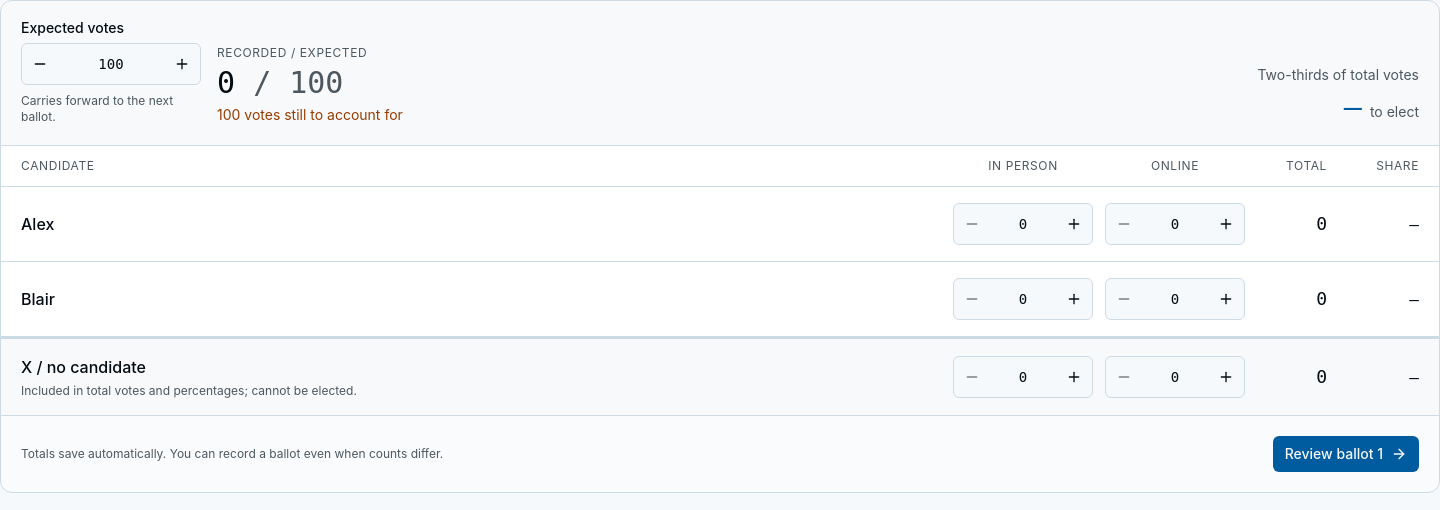
Test: election entry controls › includes X in displayed percentages and keeps recording available when counts differ
expect the button "Review ballot 1" is enabled: met, box x1=1273 y1=436 x2=1419 y2=472
Replace the text in the number field named "In person votes for Alex" with "70" at (1023,224), box x1=990 y1=204 x2=1056 y2=244
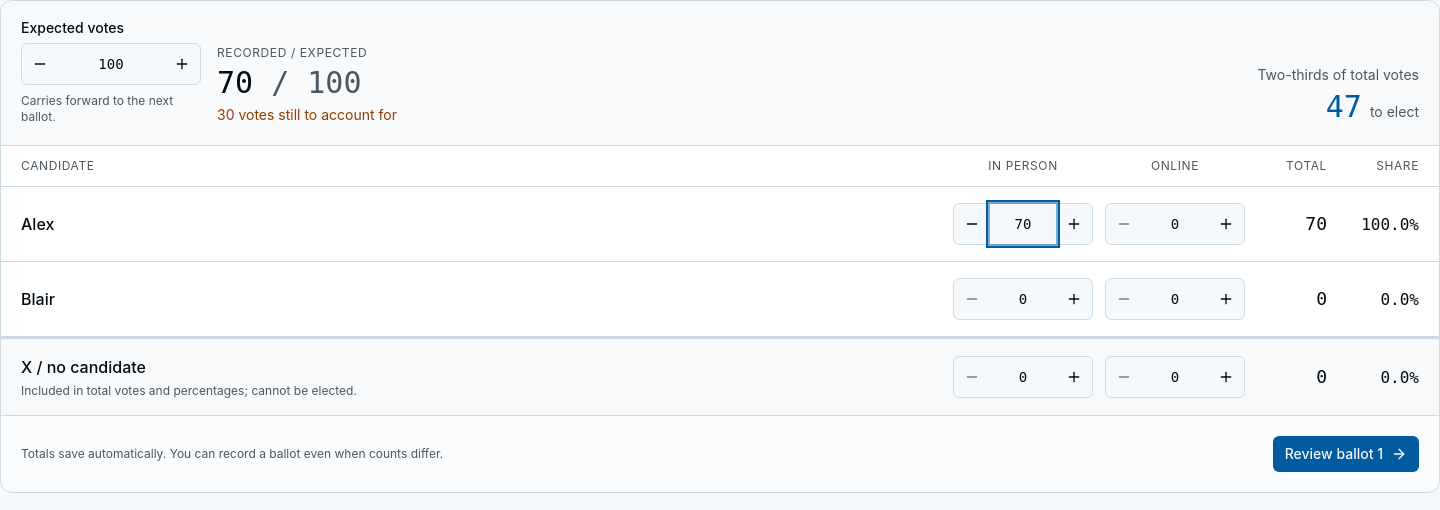
Replace the text in the number field named "Online votes for Blair" with "20" at (1175,299), box x1=1142 y1=279 x2=1208 y2=319
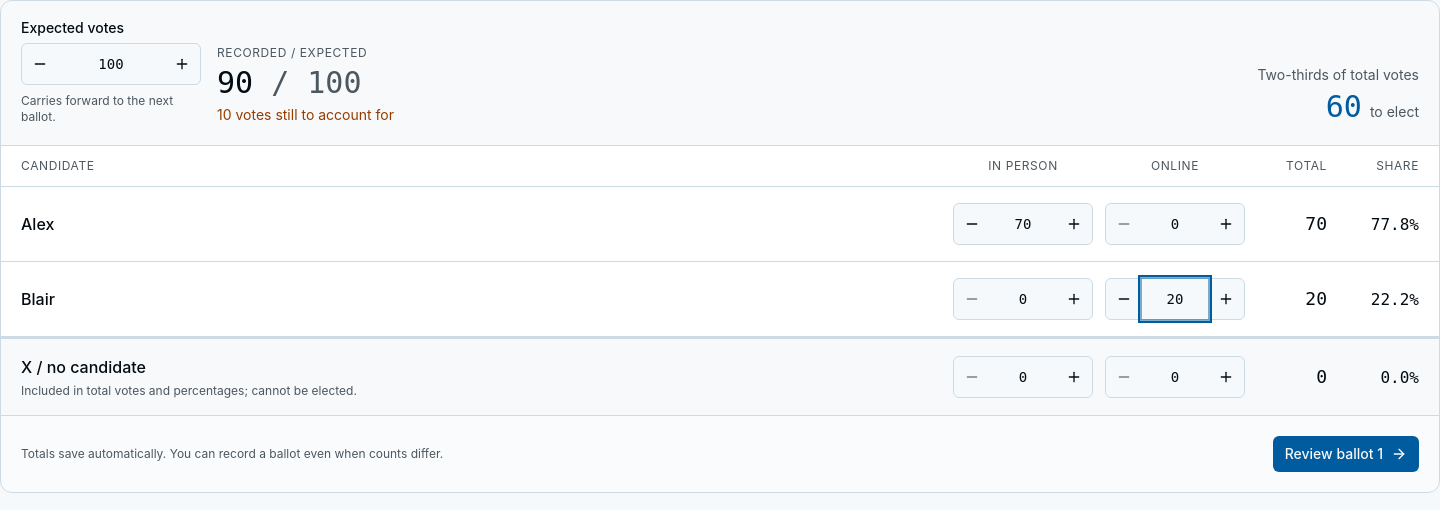
Replace the text in the number field named "In person votes for X / no candidate" with "10" at (1023,377), box x1=990 y1=357 x2=1056 y2=397
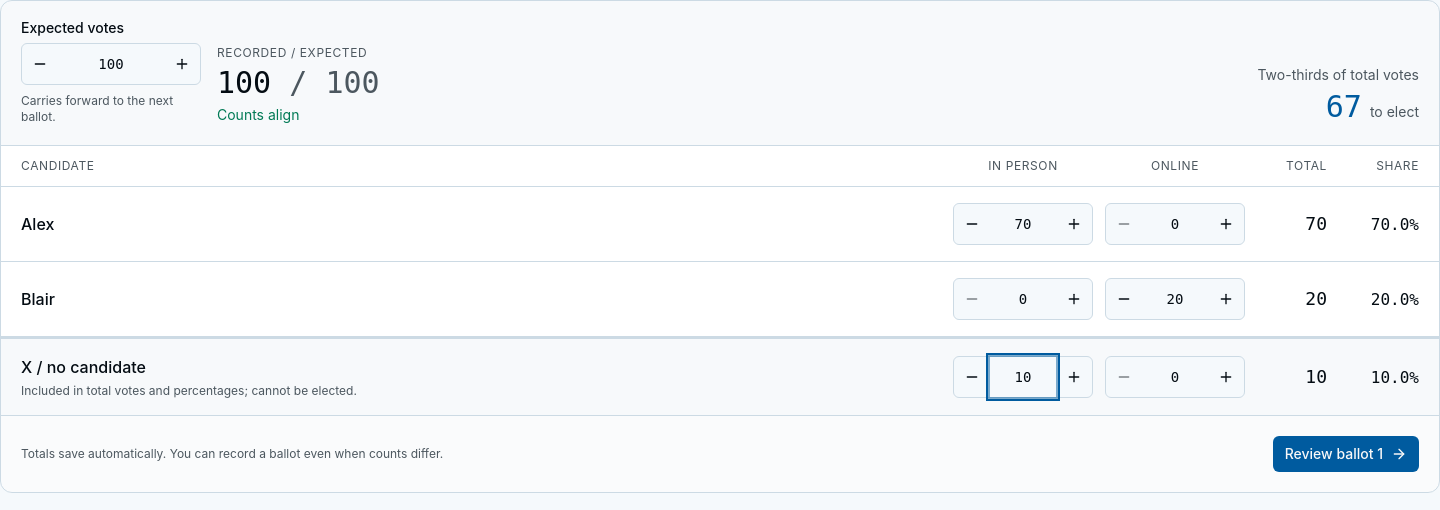
expect the text "70.0%" is shown: met, box x1=1371 y1=214 x2=1419 y2=234
expect the text "10.0%" is shown: met, box x1=1371 y1=368 x2=1419 y2=386
expect the text "Counts align" is shown: met, box x1=217 y1=106 x2=300 y2=123
Click the button named "Increase online votes for x / no candidate by one" at (1226,377), box x1=1208 y1=357 x2=1244 y2=397
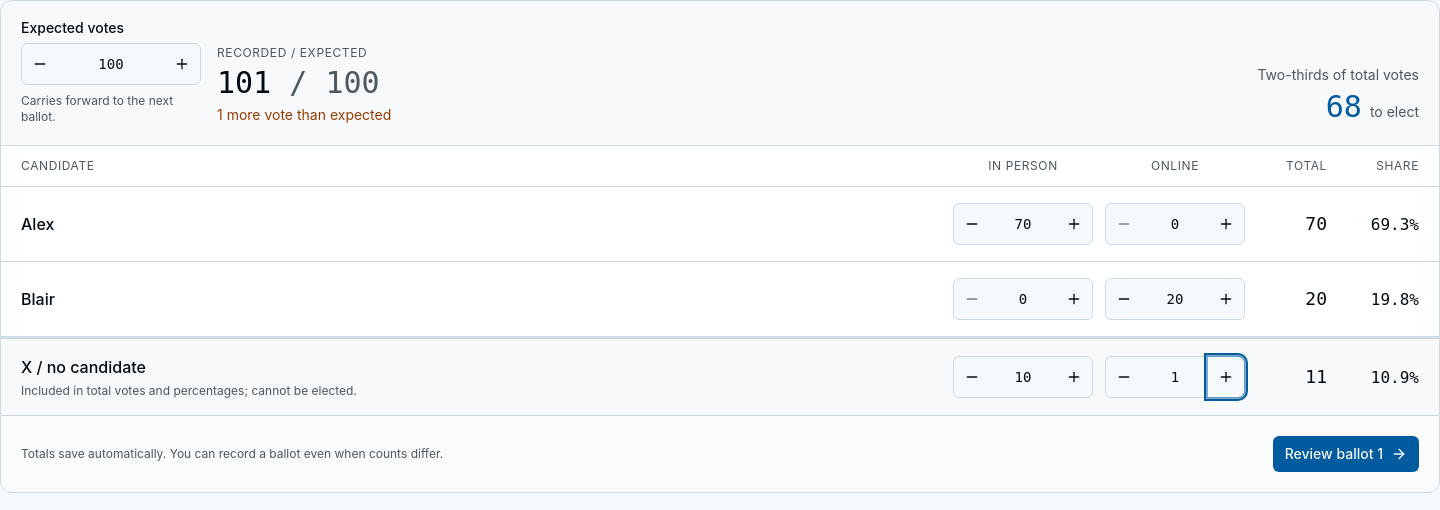
expect the button "Review ballot 1" is enabled: met, box x1=1273 y1=436 x2=1419 y2=472
expect the text "1 more vote than expected" is shown: met, box x1=217 y1=106 x2=391 y2=123
